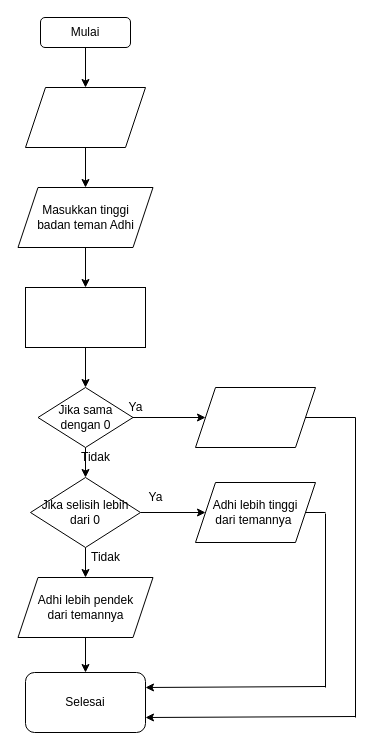
This 381x750 diagram has some shape labels left out. The centre of each missing label's shape, as x and y in pixels:
"Masukkan tinggi badan Adhi" belongs at [85,117].
"Selisih tinggi badan Adhi dan temannya" belongs at [85,317].
"Tinggi badan Adhi sama" belongs at [255,417].
